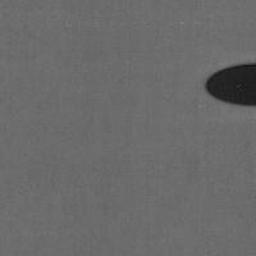Punching: (206, 64, 256, 106)
